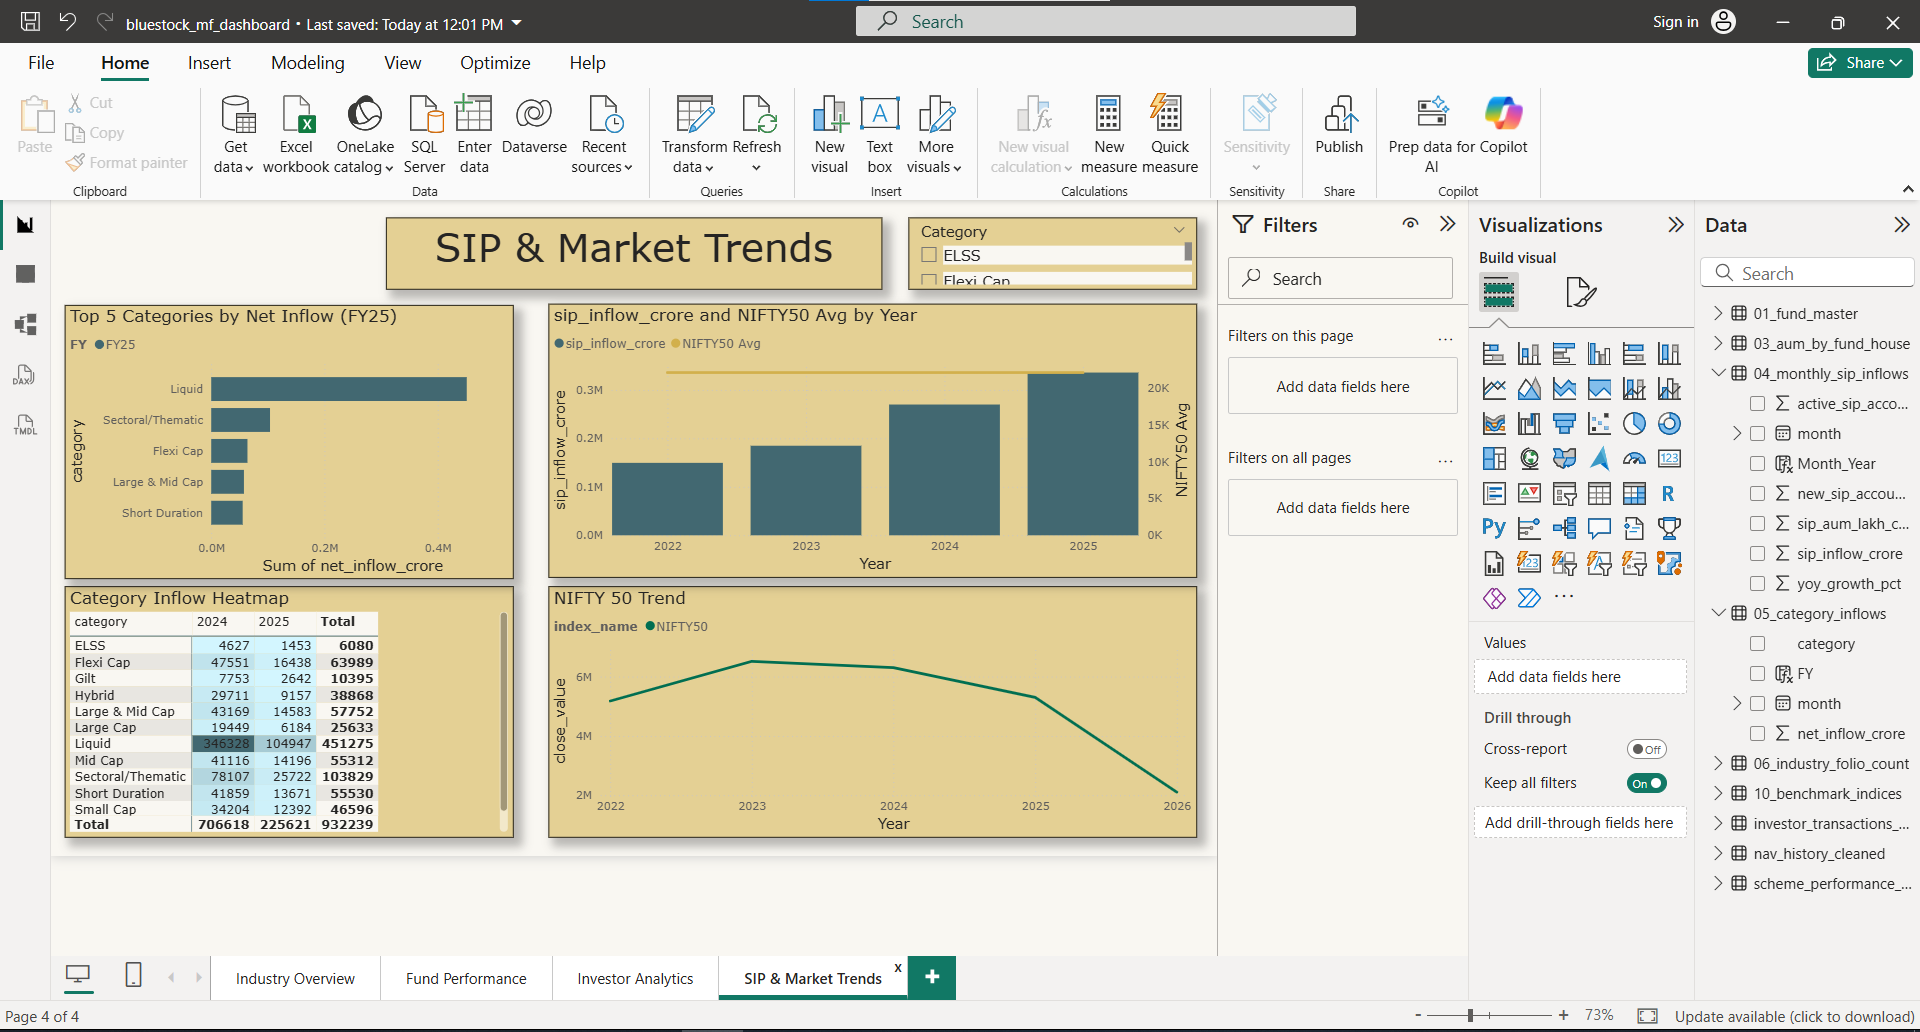

The page's visual inventory and layout, read from the dashboard file:
{"tool":"powerbi","page":{"name":"SIP & Market Trends","canvas":[1280,720],"ordinal":3},"visuals":[{"type":"textbox","box":[367.8,19.2,544.8,79.6],"z":0},{"type":"lineChart","title":"NIFTY 50 Trend","fields":{"Category":["10_benchmark_indices.date.Variation.Date Hierarchy.Year","10_benchmark_indices.date.Variation.Date Hierarchy.Quarter","10_benchmark_indices.date.Variation.Date Hierarchy.Month","10_benchmark_indices.date.Variation.Date Hierarchy.Day"],"Y":["Sum(10_benchmark_indices.close_value)"],"Series":["10_benchmark_indices.index_name"]},"box":[546.1,424,712.2,275.8],"z":2},{"type":"pivotTable","title":"Category Inflow Heatmap","fields":{"Rows":["05_category_inflows.category"],"Columns":["05_category_inflows.month.Variation.Date Hierarchy.Year","05_category_inflows.month.Variation.Date Hierarchy.Quarter","05_category_inflows.month.Variation.Date Hierarchy.Month","05_category_inflows.month.Variation.Date Hierarchy.Day"],"Values":["Sum(05_category_inflows.net_inflow_crore)"]},"box":[15.1,424,492.6,275.8],"z":3},{"type":"slicer","fields":{"Values":["05_category_inflows.category"]},"box":[941.3,19.2,317,79.6],"z":4},{"type":"lineClusteredColumnComboChart","fields":{"Category":["04_monthly_sip_inflows.month.Variation.Date Hierarchy.Year","04_monthly_sip_inflows.month.Variation.Date Hierarchy.Quarter","04_monthly_sip_inflows.month.Variation.Date Hierarchy.Month","04_monthly_sip_inflows.month.Variation.Date Hierarchy.Day"],"Y":["Sum(04_monthly_sip_inflows.sip_inflow_crore)"],"Y2":["10_benchmark_indices.NIFTY50 Avg"]},"box":[546.1,113.9,712.2,300.5],"z":5},{"type":"clusteredBarChart","title":"Top 5 Categories by Net Inflow (FY25)","fields":{"Category":["05_category_inflows.category"],"Y":["Sum(05_category_inflows.net_inflow_crore)"],"Series":["05_category_inflows.FY"]},"box":[15,115,493,301],"z":6}]}

Visuals, with their boxes on the page's 1280x720 design canvas (x1, y1, x2, y2). These are canvas units, not pixel positions in the 1920x1032 screenshot, which may show the page scaled, cropped or inside an application window:
textbox: bbox=(368, 19, 913, 99)
"NIFTY 50 Trend" lineChart: bbox=(546, 424, 1258, 700)
"Category Inflow Heatmap" pivotTable: bbox=(15, 424, 508, 700)
slicer - 05_category_inflows.category: bbox=(941, 19, 1258, 99)
lineClusteredColumnComboChart - 04_monthly_sip_inflows.month.Variation.Date Hierarchy.Year x 04_monthly_sip_inflows.month.Variation.Date Hierarchy.Quarter: bbox=(546, 114, 1258, 414)
"Top 5 Categories by Net Inflow (FY25)" clusteredBarChart: bbox=(15, 115, 508, 416)
